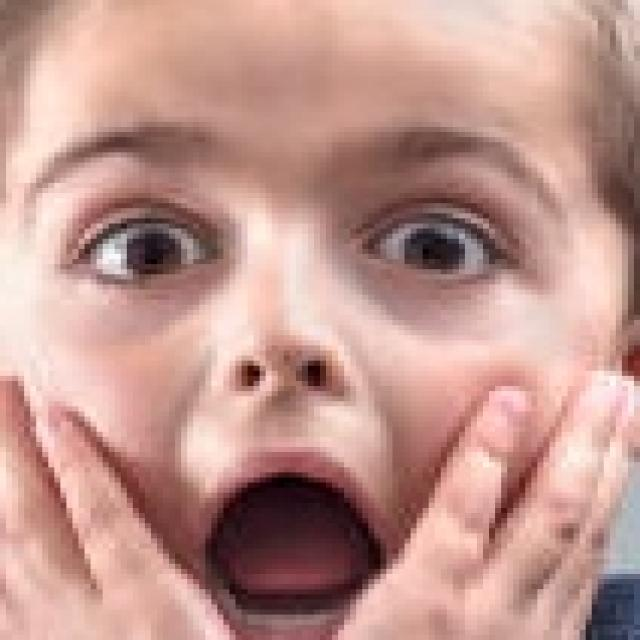Anxiety: (6, 5, 626, 635)
